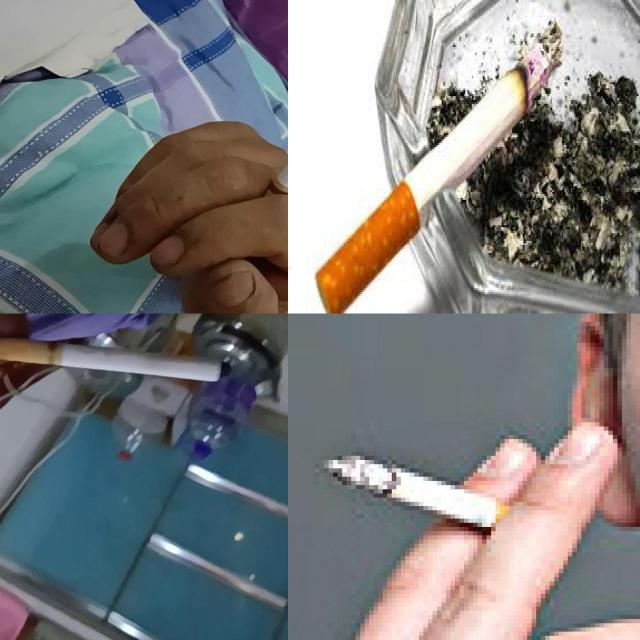cigarette: (314, 18, 564, 314), (322, 452, 542, 542), (0, 338, 224, 386), (258, 100, 288, 214)
